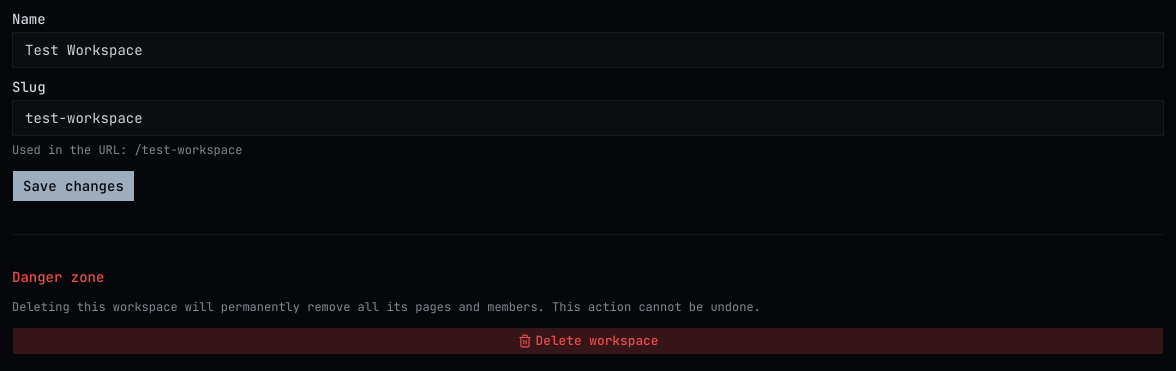
Scenario: WorkspaceSettingsForm › slug input strips invalid characters on change
This screenshot has width=1176, height=371.
Replace the text in the field labelled "Slug" with "Hello World!@#" at (588, 118), box [12,100,1164,136]
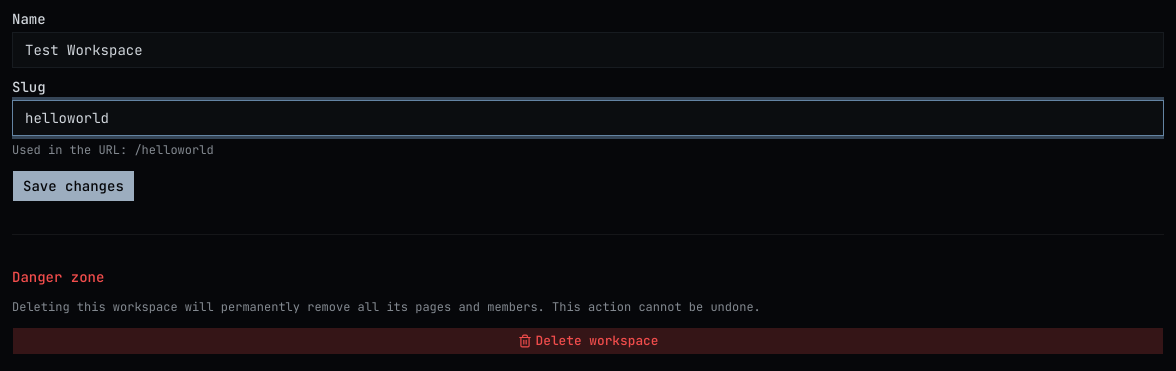
Check: the field labelled "Slug" holds "helloworld", box [12,100,1164,136]
